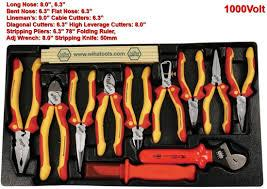pliers: (6, 56, 41, 173), (39, 78, 69, 180), (66, 69, 94, 171), (224, 45, 255, 130), (201, 48, 230, 132)
